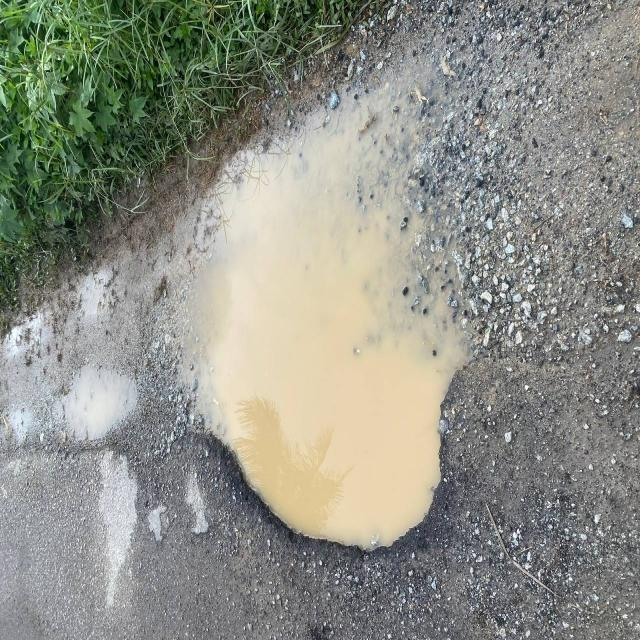Pothole: (145, 192, 510, 590)
